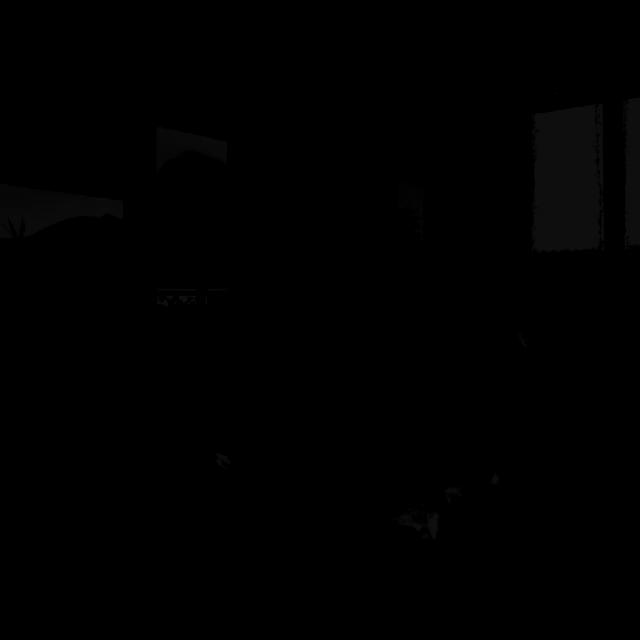Dog: (304, 227, 578, 566)
